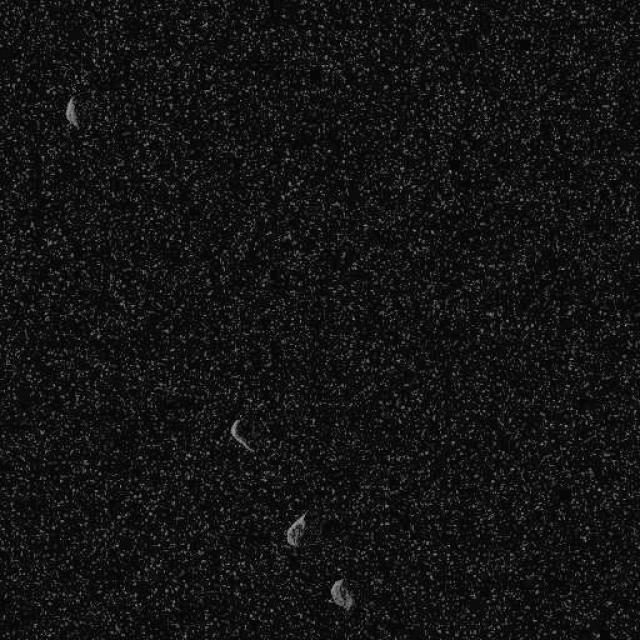D2: (284, 510, 308, 548), (328, 578, 354, 612), (228, 418, 254, 452), (64, 95, 80, 129)
